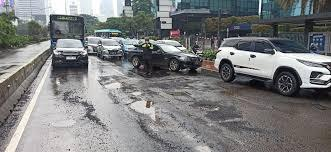Pothole: (122, 96, 167, 123), (189, 100, 226, 116), (179, 73, 192, 84)
